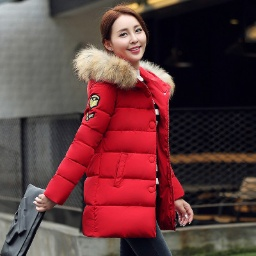face: (95, 5, 156, 69)
